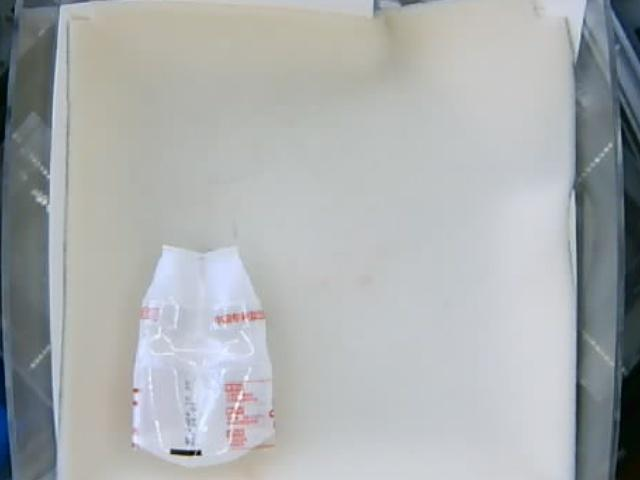Bottle: (128, 243, 276, 469)
